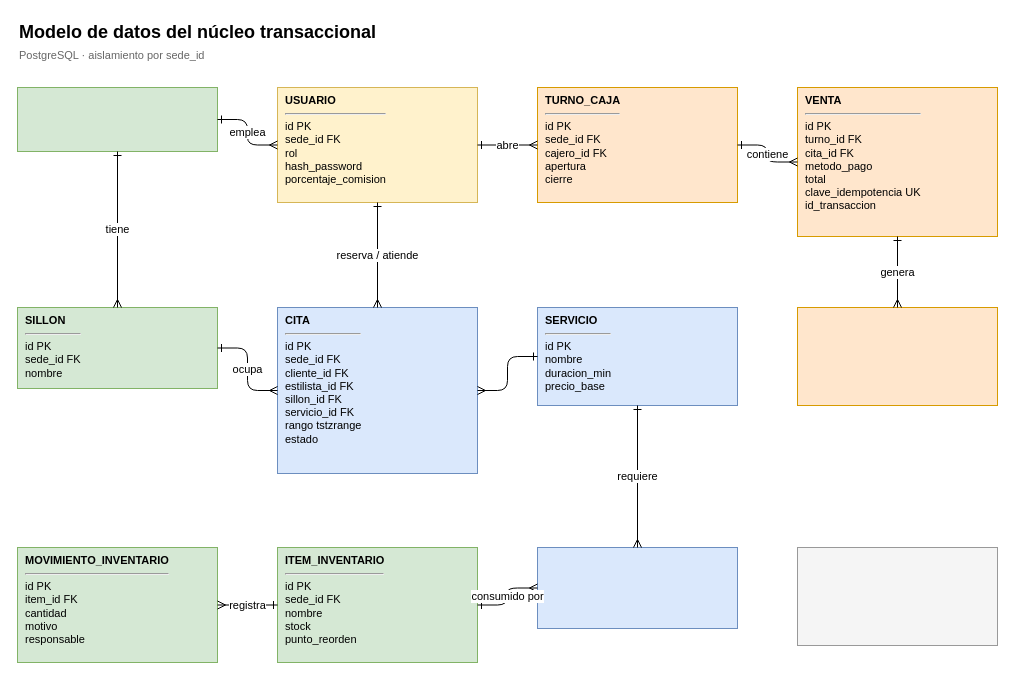
Some shapes in this 1015 by 680 pixel diagram are drawn without their labels. The shapes that lost their labels are listed below. From the top down, each one's centre as x and y in pixels, then its label:
At (x=117, y=119): "SEDE id PK nombre".
At (x=897, y=356): "COMISION id PK venta_id FK estilista_id FK monto".
At (x=637, y=587): "SERVICIO_INSUMO servicio_id FK item_id FK cantidad".
At (x=897, y=596): "AUDITORIA id PK usuario_id FK accion fecha".
